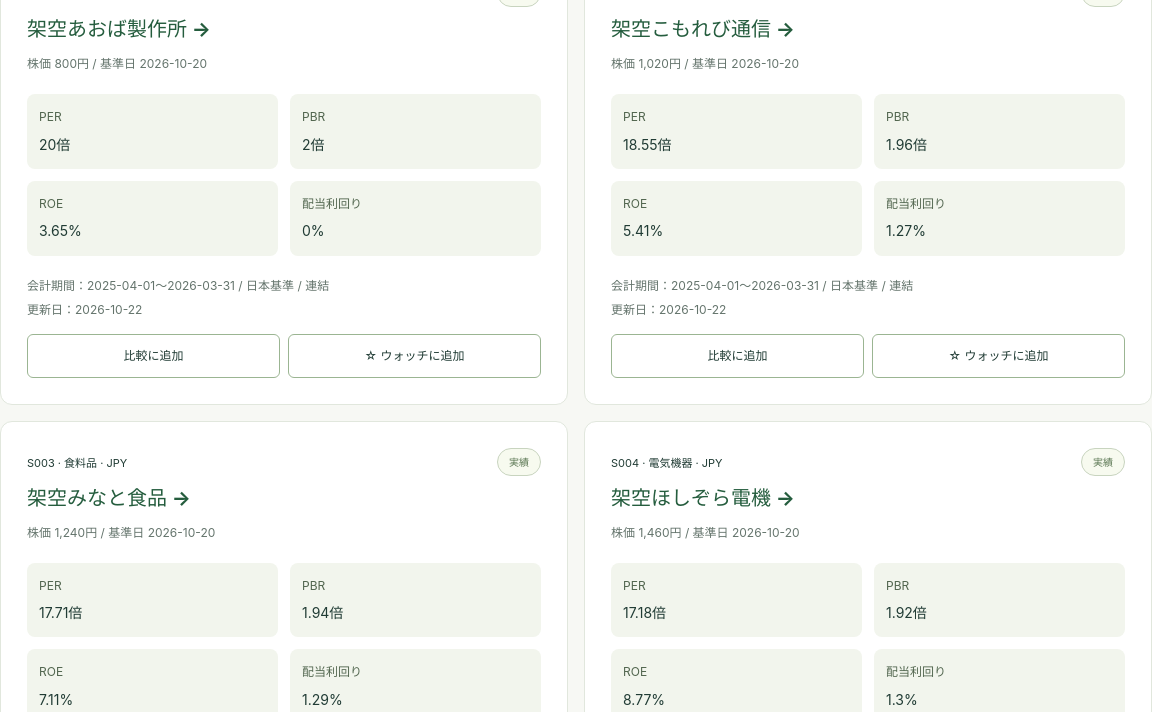
Scenario: ウォッチ保存失敗時は登録済みとせず、再試行して保存できる
The width and height of the screenshot is (1152, 712).
(page scrolled)
Step 1. Click the button "☆ ウォッチに追加" below "3.65%" → (414, 356), box [288, 334, 541, 378]
(page scrolled)
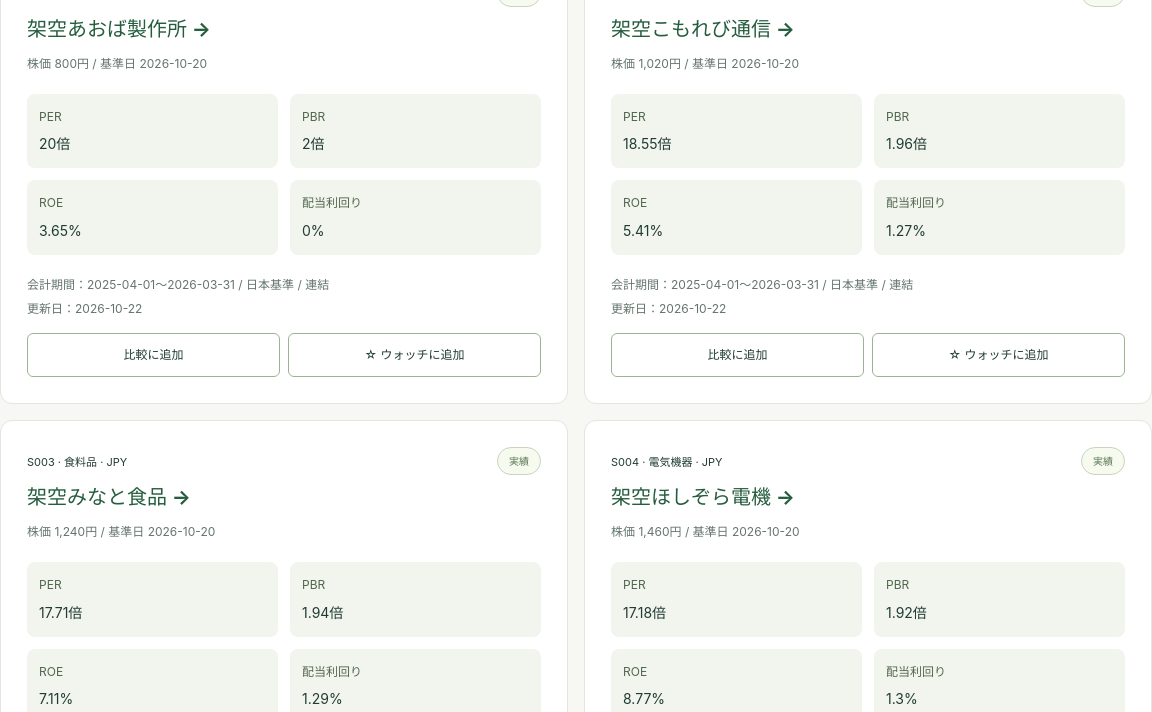
Step 2. Click the button "☆ ウォッチに追加" below "3.65%" → (414, 355), box [288, 333, 541, 377]
(page scrolled)
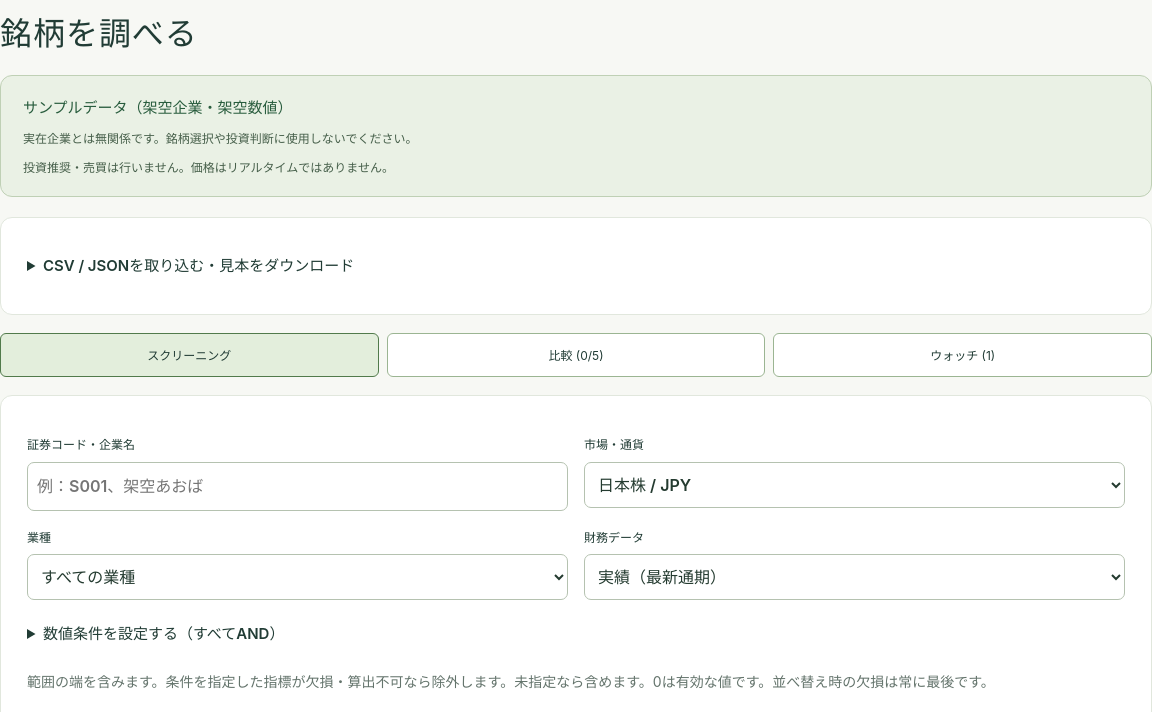
Check: the button "ウォッチ (1)" is shown, box [773, 333, 1151, 377]
